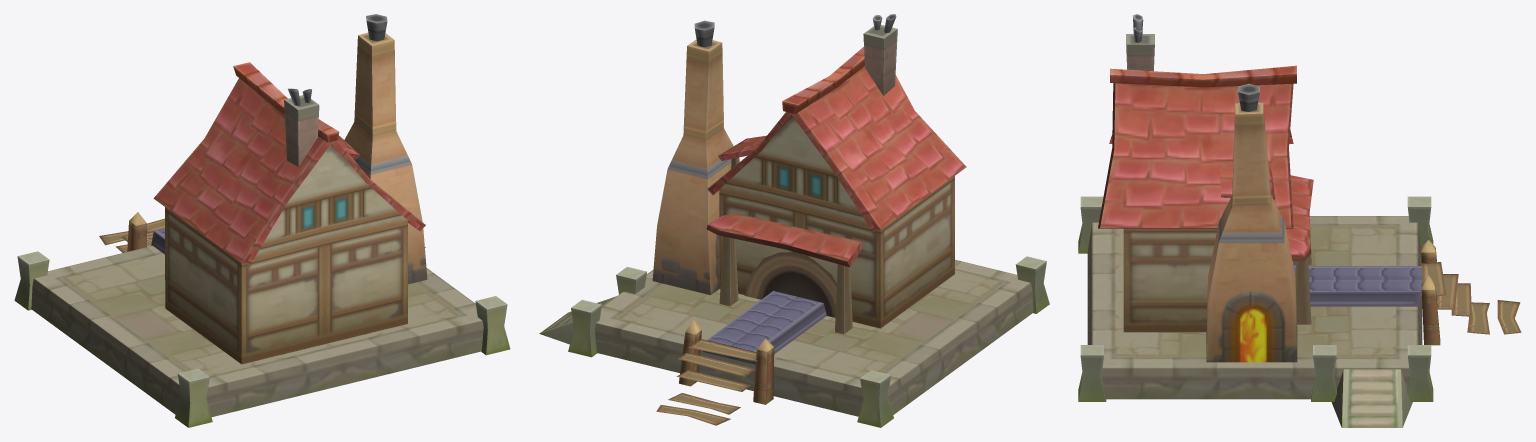
The model's file is field_Buildings_001b.fbx.
The picture shows the model from 3 angles, left to right: view 1: azimuth 30°, elevation 25°; view 2: azimuth 150°, elevation 25°; view 3: azimuth 270°, elevation 25°; orthographic projection. The views are drawn at different scales.
Parts seen in each view (by area): view 1: field_Buildings_001b; view 2: field_Buildings_001b; view 3: field_Buildings_001b.
Part boxes in pixels (x1,y1,x2,y2): field_Buildings_001b: [14, 14, 510, 427]; field_Buildings_001b: [539, 14, 1049, 427]; field_Buildings_001b: [1078, 14, 1521, 427].
Size of the model in its own units: 189 by 142 by 193.
